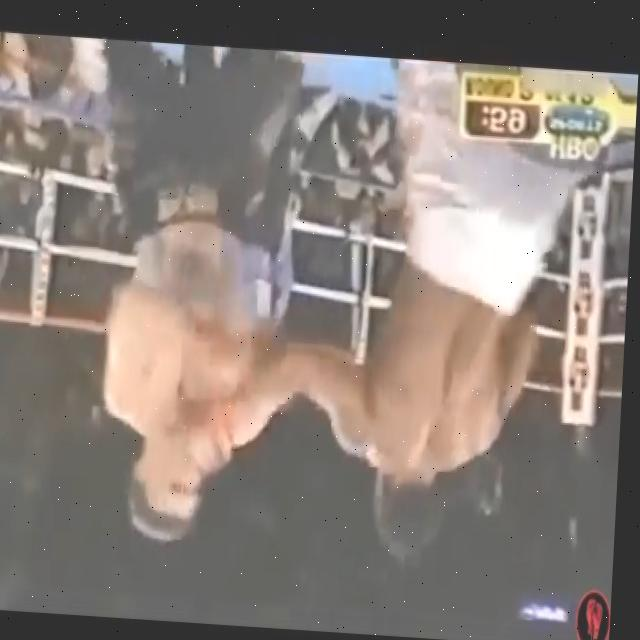Jab: (150, 293, 411, 510)
